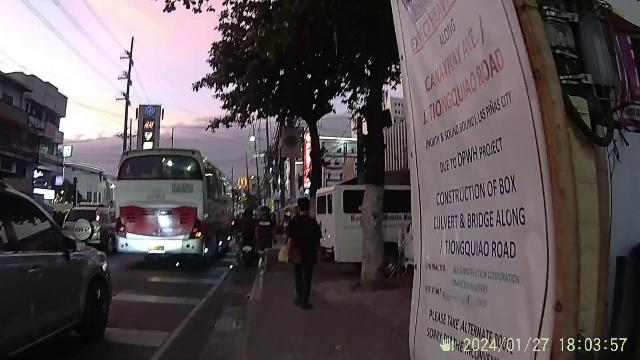utility_post: (116, 25, 140, 147)
